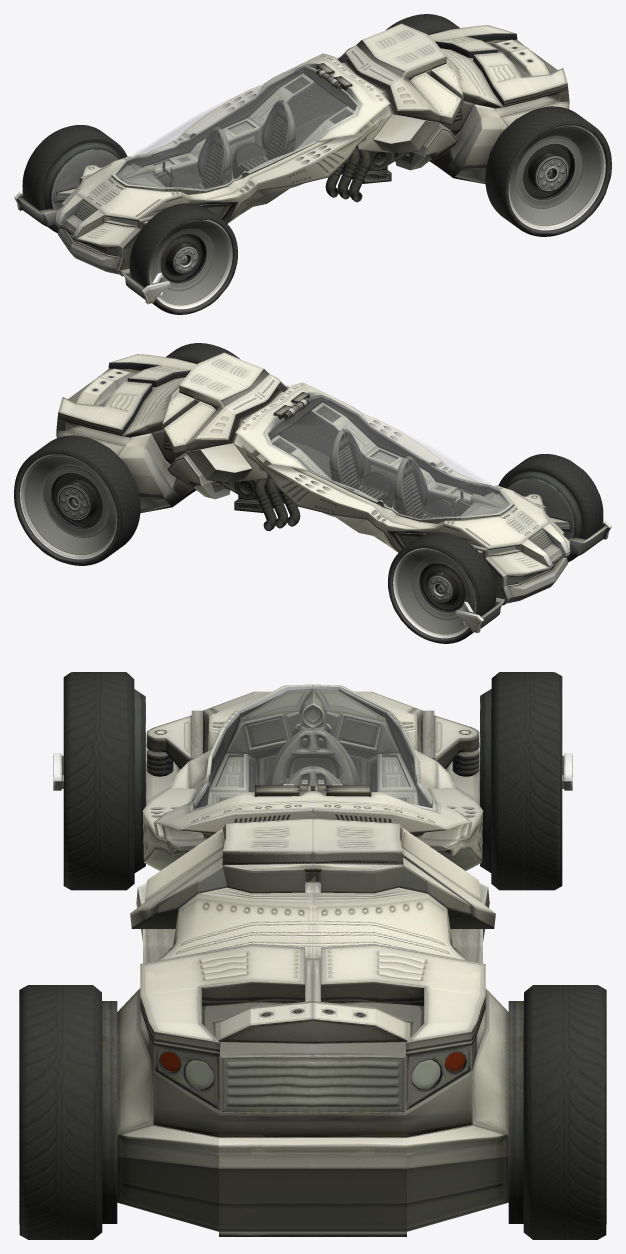
The model's file is future.glb.
3 views of the same model, one above another, from view 1: azimuth 30°, elevation 25°; view 2: azimuth 150°, elevation 25°; view 3: azimuth 270°, elevation 25° (orthographic). The views are drawn at different scales.
Visible parts, largest first — view 1: Speed_car.007, Speed_car.000, Cube.045, Cube.044; view 2: Speed_car.007, Speed_car.000, Cube.045, Cube.044; view 3: Speed_car.007, Cube.044, Speed_car.000, Cube.045.
Boxes of the visible parts, bbox=[...] form: Speed_car.007: bbox=[55, 23, 569, 276]; Speed_car.000: bbox=[14, 125, 237, 314]; Cube.045: bbox=[115, 65, 357, 190]; Cube.044: bbox=[386, 14, 611, 236]; Speed_car.007: bbox=[56, 352, 570, 605]; Speed_car.000: bbox=[388, 454, 611, 643]; Cube.045: bbox=[267, 395, 510, 519]; Cube.044: bbox=[14, 343, 239, 565]; Speed_car.007: bbox=[102, 684, 523, 1236]; Cube.044: bbox=[19, 985, 606, 1239]; Speed_car.000: bbox=[53, 672, 572, 890]; Cube.045: bbox=[193, 686, 434, 810].
Size of the model in its own units: 6.4 by 2.03 by 3.35.
3 materials, 1 textured.
